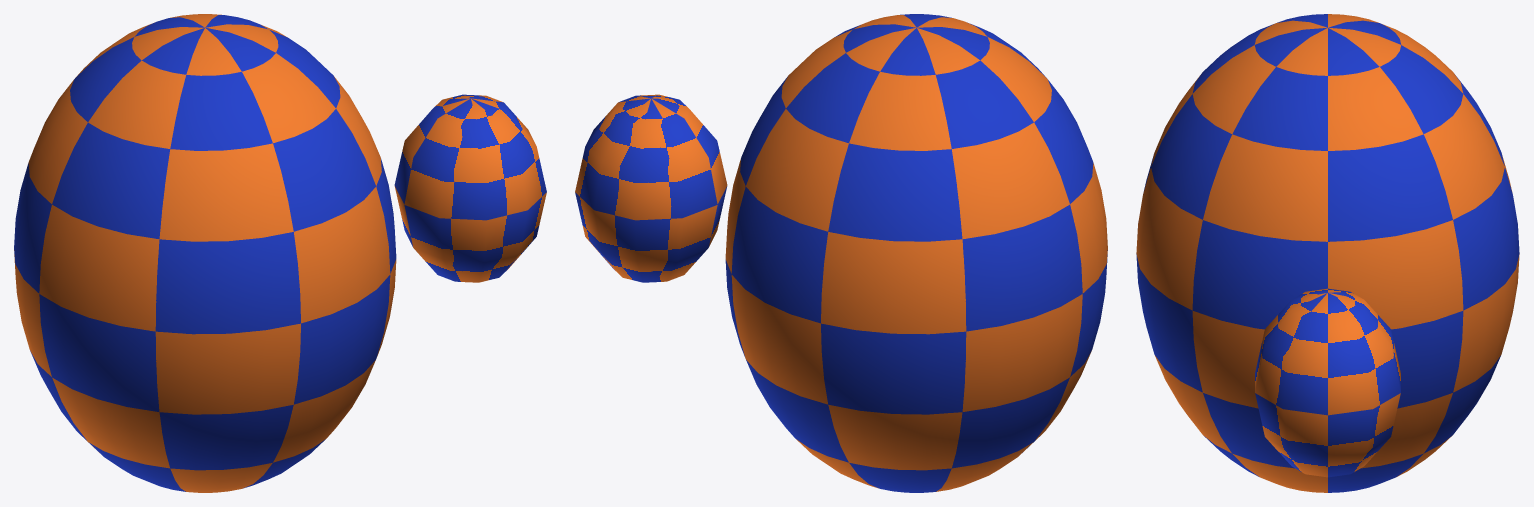
3 views of the same model, side by side, from view 1: azimuth 30°, elevation 25°; view 2: azimuth 150°, elevation 25°; view 3: azimuth 270°, elevation 25° (orthographic).
Parts seen in each view (by area): view 1: ball-0, ball-1; view 2: ball-0, ball-1; view 3: ball-0, ball-1.
Boxes of the visible parts, x1=… form: ball-0: x1=14, y1=14, x2=396, y2=492; ball-1: x1=394, y1=94, x2=546, y2=282; ball-0: x1=725, y1=14, x2=1107, y2=492; ball-1: x1=575, y1=94, x2=727, y2=282; ball-0: x1=1136, y1=14, x2=1519, y2=492; ball-1: x1=1255, y1=288, x2=1400, y2=477.
Bounding box in the file's own units: 3 × 2.6 × 2.
Materials: 1 (1 with a texture image).
